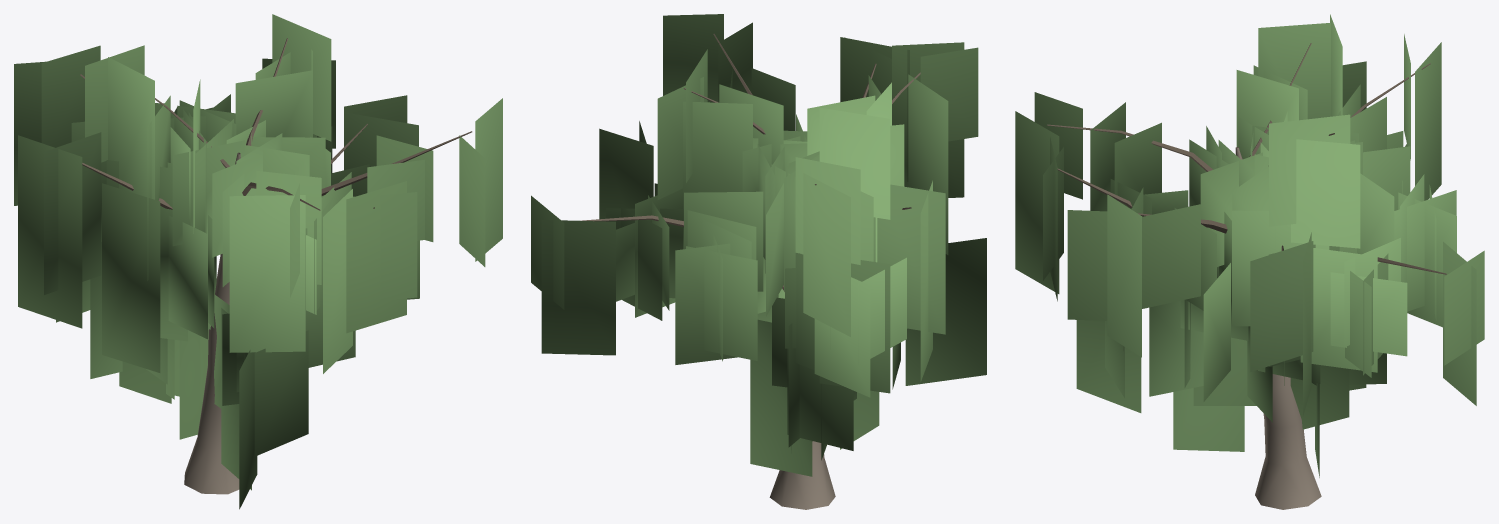
File: tree_willow_a_lod0.glb
The picture shows the model from 3 angles, left to right: view 1: azimuth 30°, elevation 25°; view 2: azimuth 150°, elevation 25°; view 3: azimuth 270°, elevation 25°; orthographic projection. The views are drawn at different scales.
Visible parts, largest first — view 1: tree_willow_a_lod0; view 2: tree_willow_a_lod0; view 3: tree_willow_a_lod0.
Boxes of the visible parts, <box> form: tree_willow_a_lod0: <box>14,14,502,509</box>; tree_willow_a_lod0: <box>531,14,986,509</box>; tree_willow_a_lod0: <box>1015,14,1484,509</box>.
Size of the model in its own units: 8.18 by 9.01 by 8.86.
